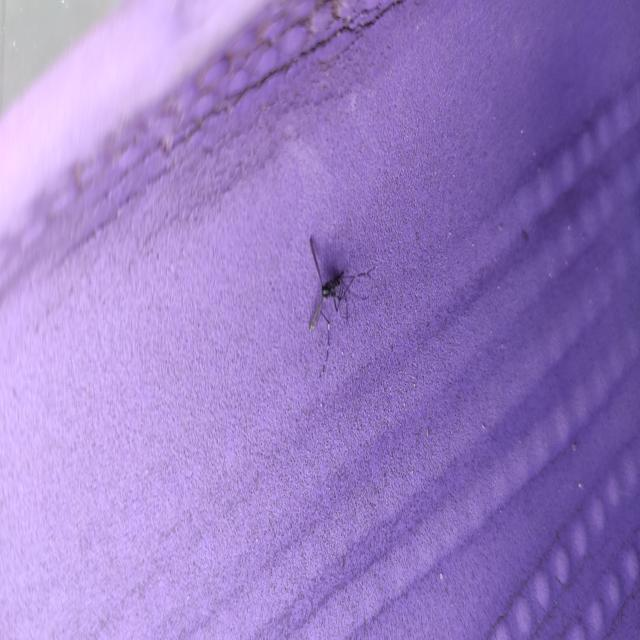albopictus: (300, 228, 378, 387)
